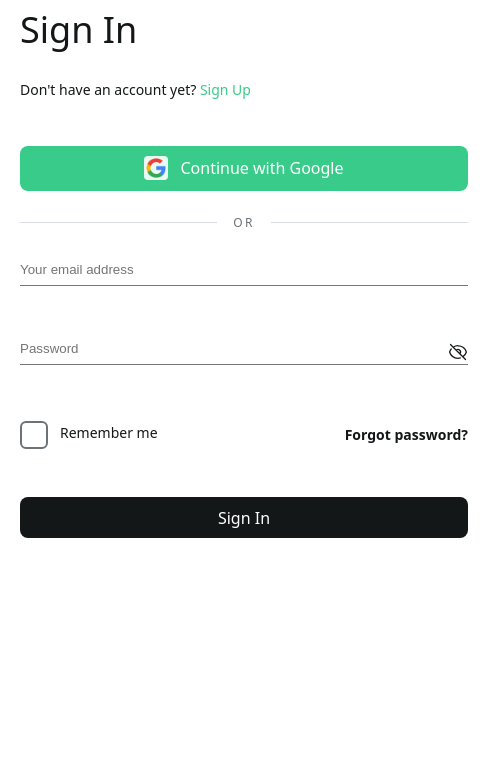
Test case: Feature: LoginForm › should show resend confirmation action when email is not confirmed
Step 1. Type "pending@test.com" into the field with placeholder "Your email address" → (244, 273), box [20, 261, 468, 286]
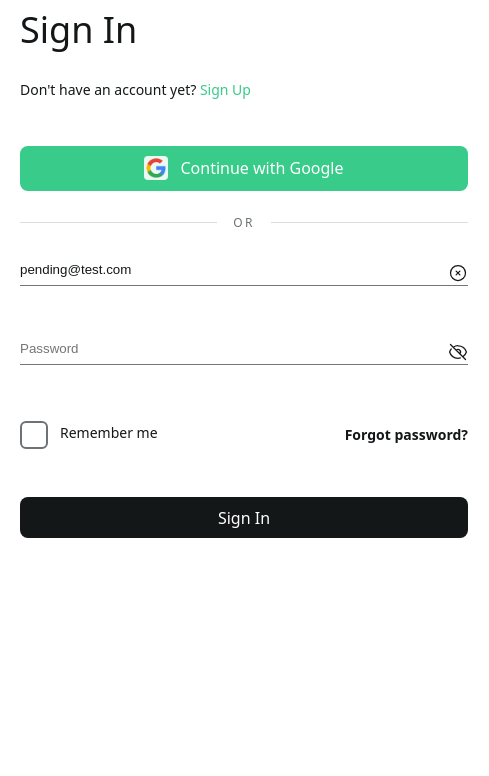
Step 2. Type "password123" into the password field with placeholder "Password" → (244, 352), box [20, 340, 468, 365]
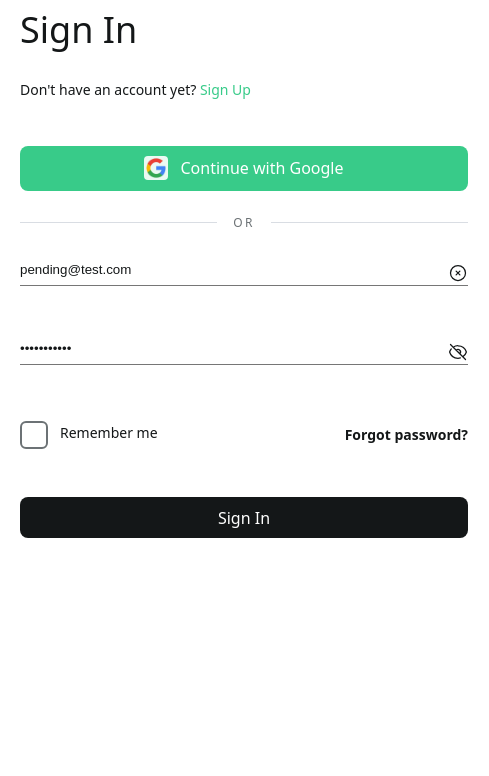
Step 3. Click the button "Sign In" → (244, 518), box [20, 497, 468, 538]
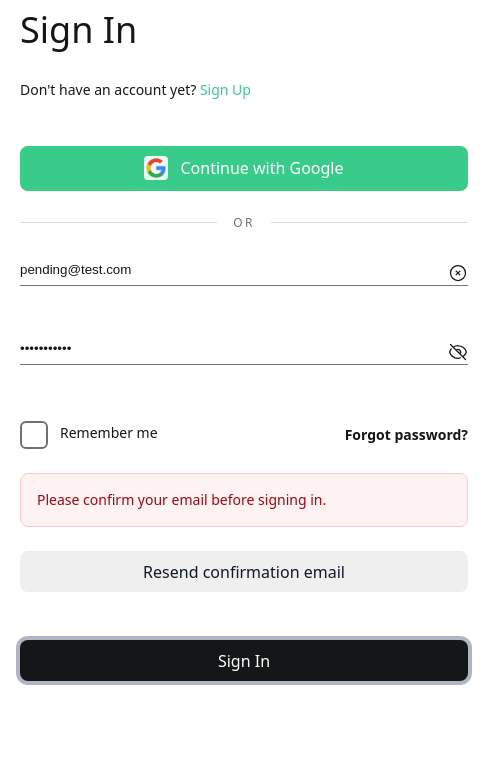
expect the text "Please confirm your email before signing in." is shown: met, box [20, 473, 468, 527]
expect the button "Resend confirmation email" is shown: met
Step 4. Click the button "Resend confirmation email" → (244, 572), box [20, 551, 468, 592]
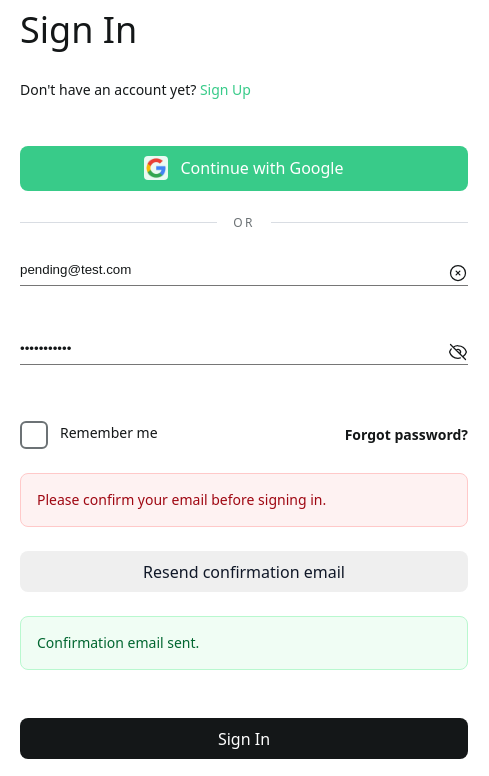
expect the text "Confirmation email sent." is shown: met, box [20, 616, 468, 670]
